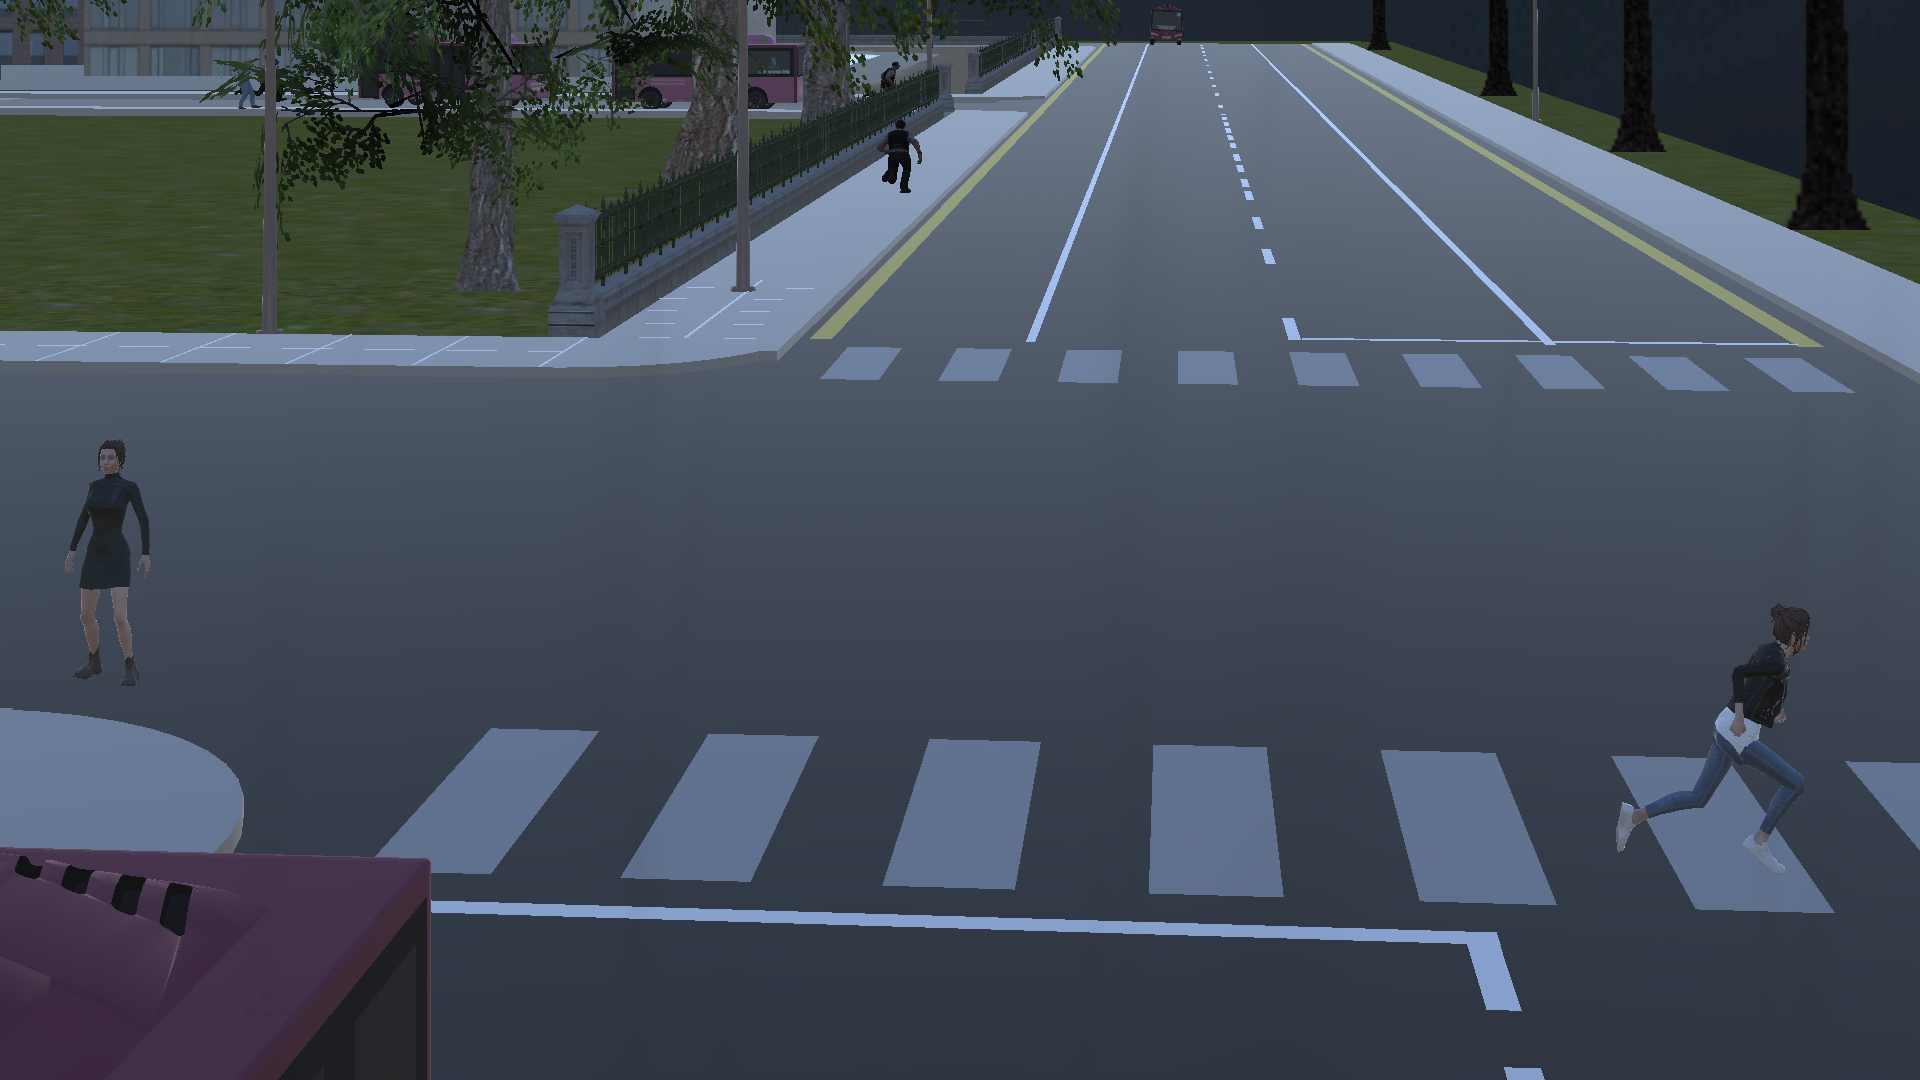pedestrian: (1603, 581, 1833, 887), (45, 431, 177, 699), (876, 106, 936, 207)
